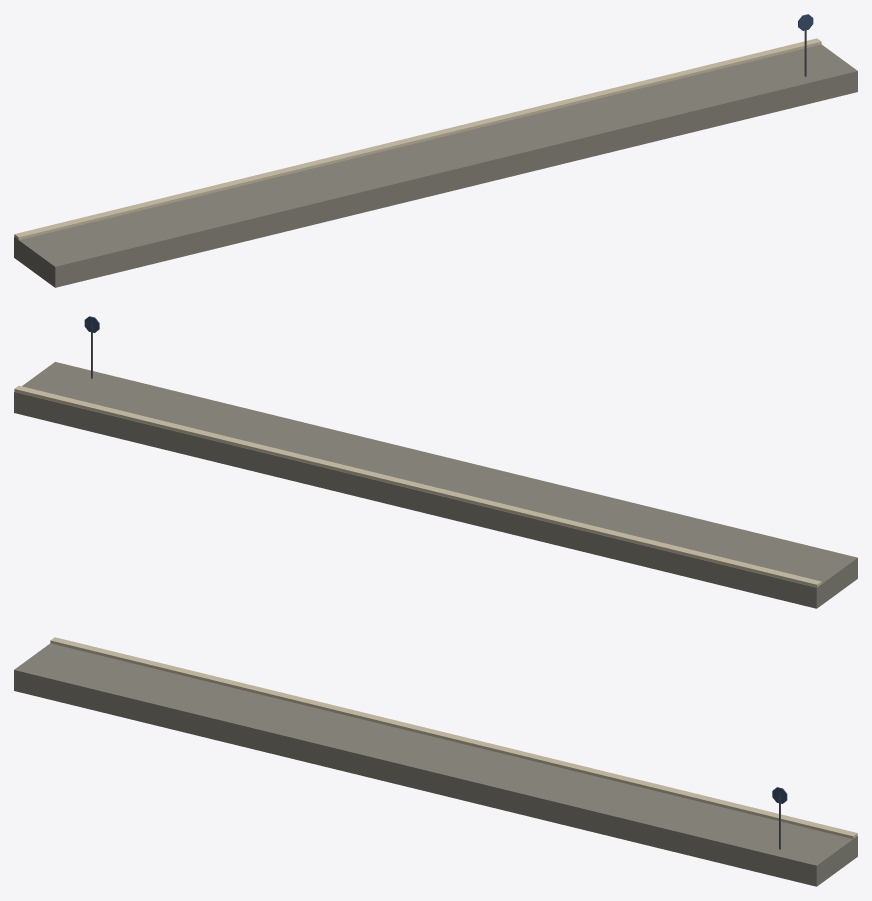
The model's file is rail-platform.glb.
The picture shows the model from 3 angles, top to bottom: view 1: azimuth 30°, elevation 25°; view 2: azimuth 150°, elevation 25°; view 3: azimuth 330°, elevation 25°; orthographic projection.
Parts seen in each view (by area): view 1: _MeshInstance3D_99, _MeshInstance3D_100; view 2: _MeshInstance3D_99, _MeshInstance3D_100; view 3: _MeshInstance3D_99, _MeshInstance3D_100.
Part boxes in pixels (x1,y1,x2,y2): _MeshInstance3D_99: (14,44,857,287); _MeshInstance3D_100: (14,38,821,239); _MeshInstance3D_99: (14,362,857,608); _MeshInstance3D_100: (14,385,821,587); _MeshInstance3D_99: (14,643,857,886); _MeshInstance3D_100: (50,637,857,838).
Size of the model in its own units: 36 by 3.52 by 3.2.
